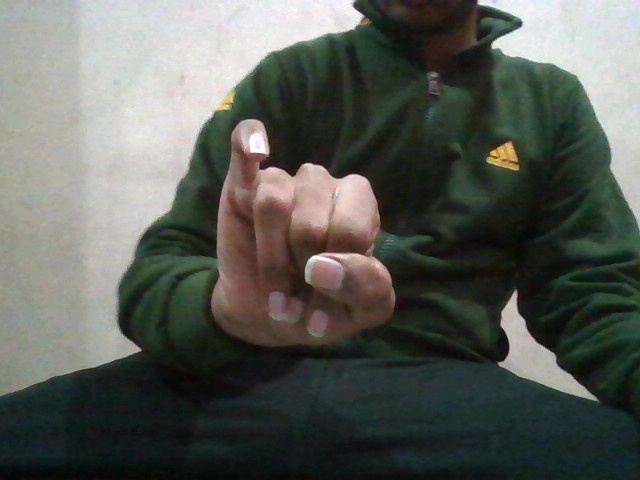J: (210, 115, 399, 349)
